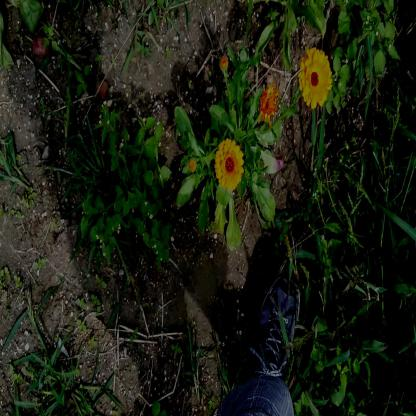marigold: (300, 50, 331, 106), (216, 138, 244, 188), (260, 86, 274, 123)
